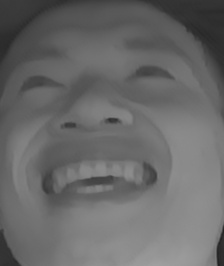eye: (124, 55, 179, 89), (12, 64, 63, 100)
mouth: (31, 142, 160, 208)
